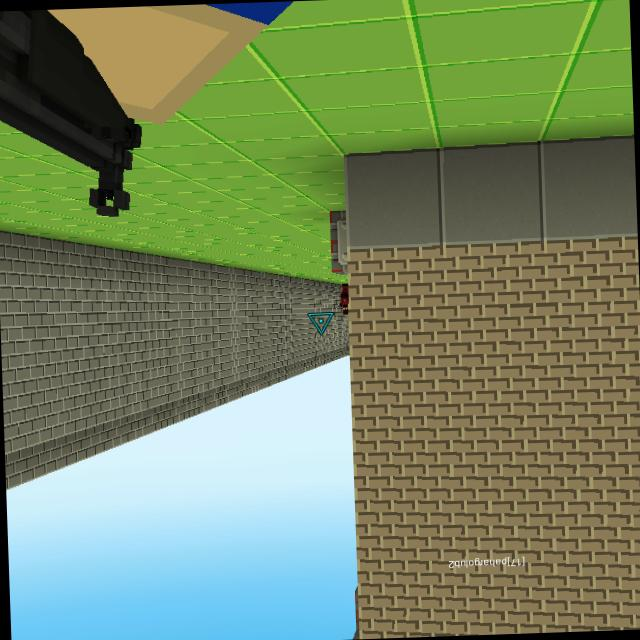enemy: (339, 284, 350, 315)
